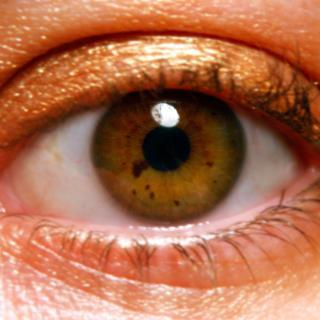iris: (90, 73, 242, 225)
